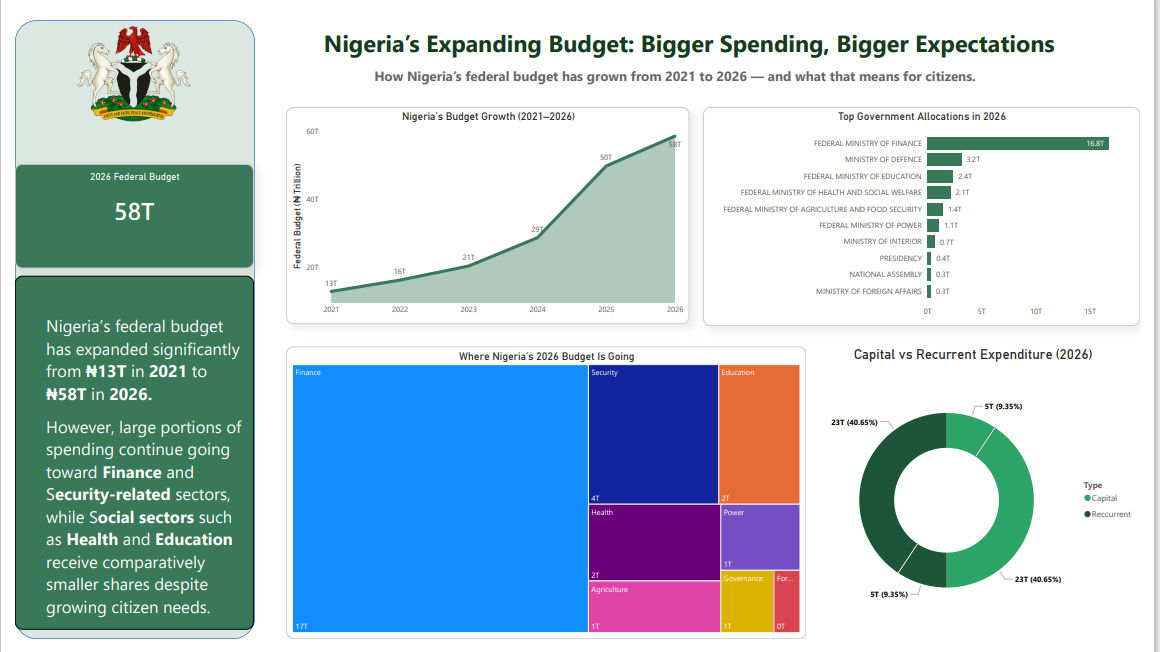

This screenshot's page, from the dashboard's own definition file:
{"tool":"powerbi","page":{"name":"Nigeria’s Expanding Budget","canvas":[1800,1000],"ordinal":0},"visuals":[{"type":"shape","box":[0,10.1,383.7,990.3],"z":0},{"type":"textbox","box":[470.8,15.1,1216.5,68.7],"z":1000},{"type":"textbox","box":[569.7,78.8,1097.5,43.6],"z":2000},{"type":"cardVisual","title":"2026 Federal Budget","fields":{"Rows":["Historical_Budget_Clean.xlsx.total_budget"]},"box":[0,239.6,382,167.6],"z":3000},{"type":"lineChart","title":"Nigeria’s Budget Growth (2021–2026)","fields":{"Category":["Historical_Budget_Clean.xlsx.year"],"Y":["Sum(Historical_Budget_Clean.xlsx.total_budget)"]},"box":[434,149.1,645.1,346.9],"z":4000},{"type":"treemap","title":"Where Nigeria’s 2026 Budget Is Going","fields":{"Group":["2026_MDA_Allocations.sector"],"Values":["Sum(2026_MDA_Allocations.total_allocation)"]},"box":[434.2,531.6,831.6,468.4],"z":5000},{"type":"clusteredBarChart","title":"Top Government Allocations in 2026","fields":{"Category":["2026_MDA_Allocations.mda_name"],"Y":["Sum(2026_MDA_Allocations.total_allocation)"]},"box":[1100.9,149.1,698.7,350.2],"z":6000},{"type":"textbox","box":[0,418.9,382,566.4],"z":7000},{"type":"image","box":[63.7,15.1,254.7,170.9],"z":8000},{"type":"donutChart","title":"Capital vs Recurrent Expenditure (2026)","fields":{"Category":["Table.Type"],"Y":["2026_MDA_Allocations.Capital_Total","2026_MDA_Allocations.Recurrent_Expenditure"]},"box":[1265.8,531.6,534.2,468.4],"z":9000}]}

Visuals, with their boxes in screenshot pixels (x1, y1, x2, y2), scaled from the page's 1800x1000 canvas onto the 1160x652 screenshot:
shape: [0, 7, 247, 651]
textbox: [303, 10, 1087, 55]
textbox: [367, 51, 1074, 80]
"2026 Federal Budget" cardVisual: [0, 156, 246, 265]
"Nigeria’s Budget Growth (2021–2026)" lineChart: [280, 97, 695, 323]
"Where Nigeria’s 2026 Budget Is Going" treemap: [280, 347, 816, 651]
"Top Government Allocations in 2026" clusteredBarChart: [709, 97, 1159, 326]
textbox: [0, 273, 246, 642]
image: [41, 10, 205, 121]
"Capital vs Recurrent Expenditure (2026)" donutChart: [816, 347, 1159, 651]
